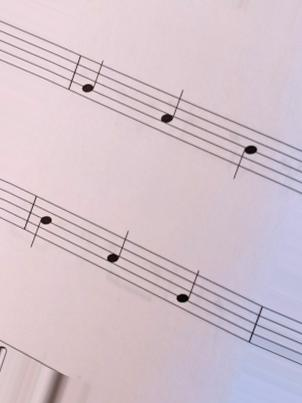A: (155, 84, 185, 149), (104, 222, 130, 293)
B: (228, 114, 259, 190), (27, 186, 54, 256)
G: (77, 45, 105, 112), (177, 258, 202, 326)
